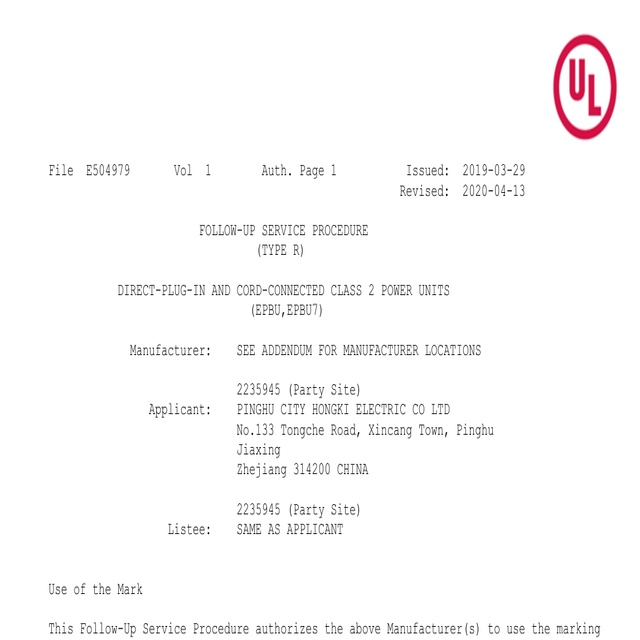ul: (552, 34, 617, 142)
